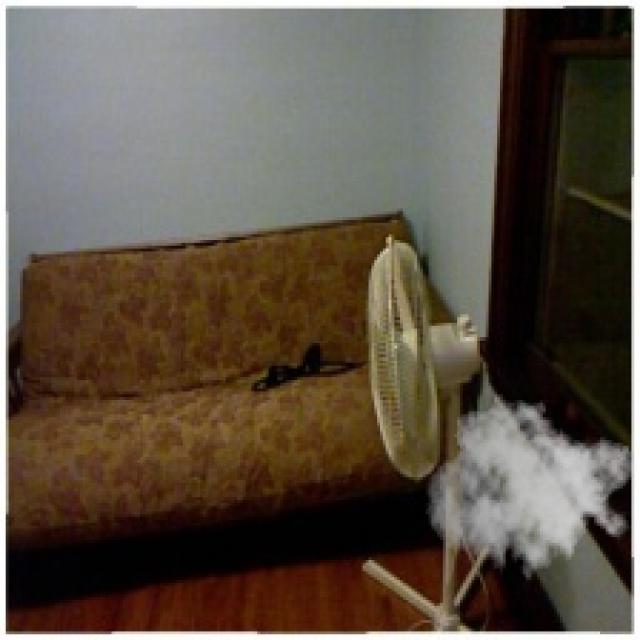smoke: (426, 388, 637, 592)
